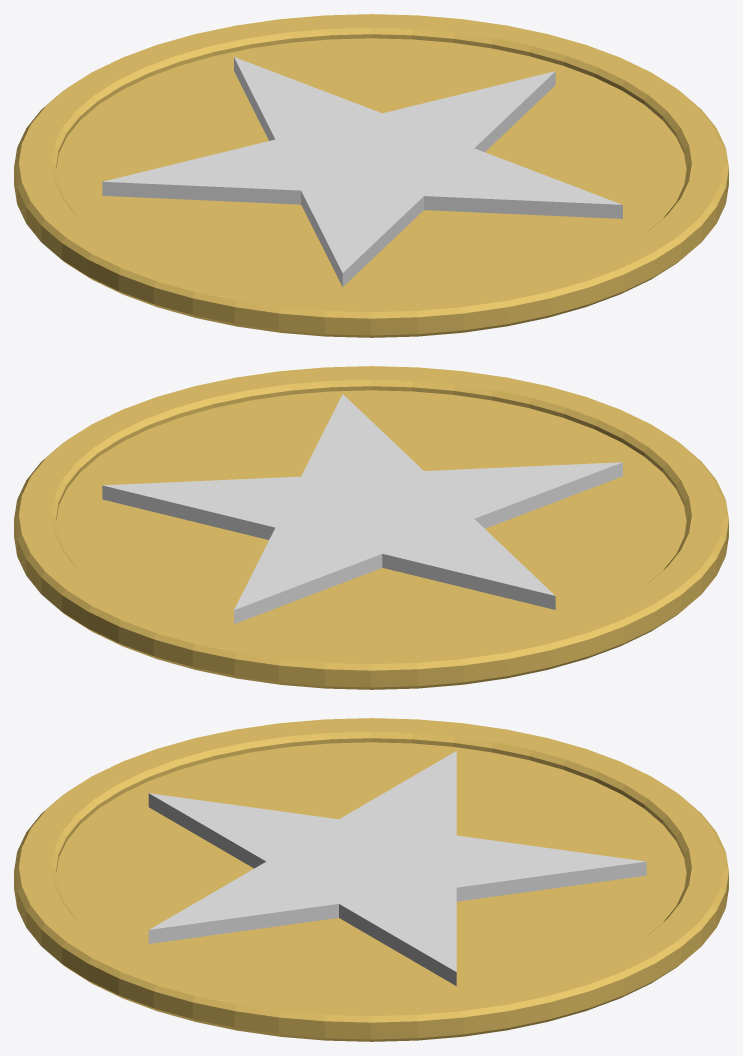
File: coin3.fbx
The picture shows the model from 3 angles, top to bottom: view 1: azimuth 30°, elevation 25°; view 2: azimuth 150°, elevation 25°; view 3: azimuth 270°, elevation 25°; orthographic projection.
Visible parts, largest first — view 1: Cylinder.001; view 2: Cylinder.001; view 3: Cylinder.001.
Part boxes in pixels (x1,y1,x2,y2): Cylinder.001: (14, 14, 728, 337); Cylinder.001: (14, 366, 728, 689); Cylinder.001: (14, 718, 728, 1041).
Size of the model in its own units: 324 by 18.42 by 324.
